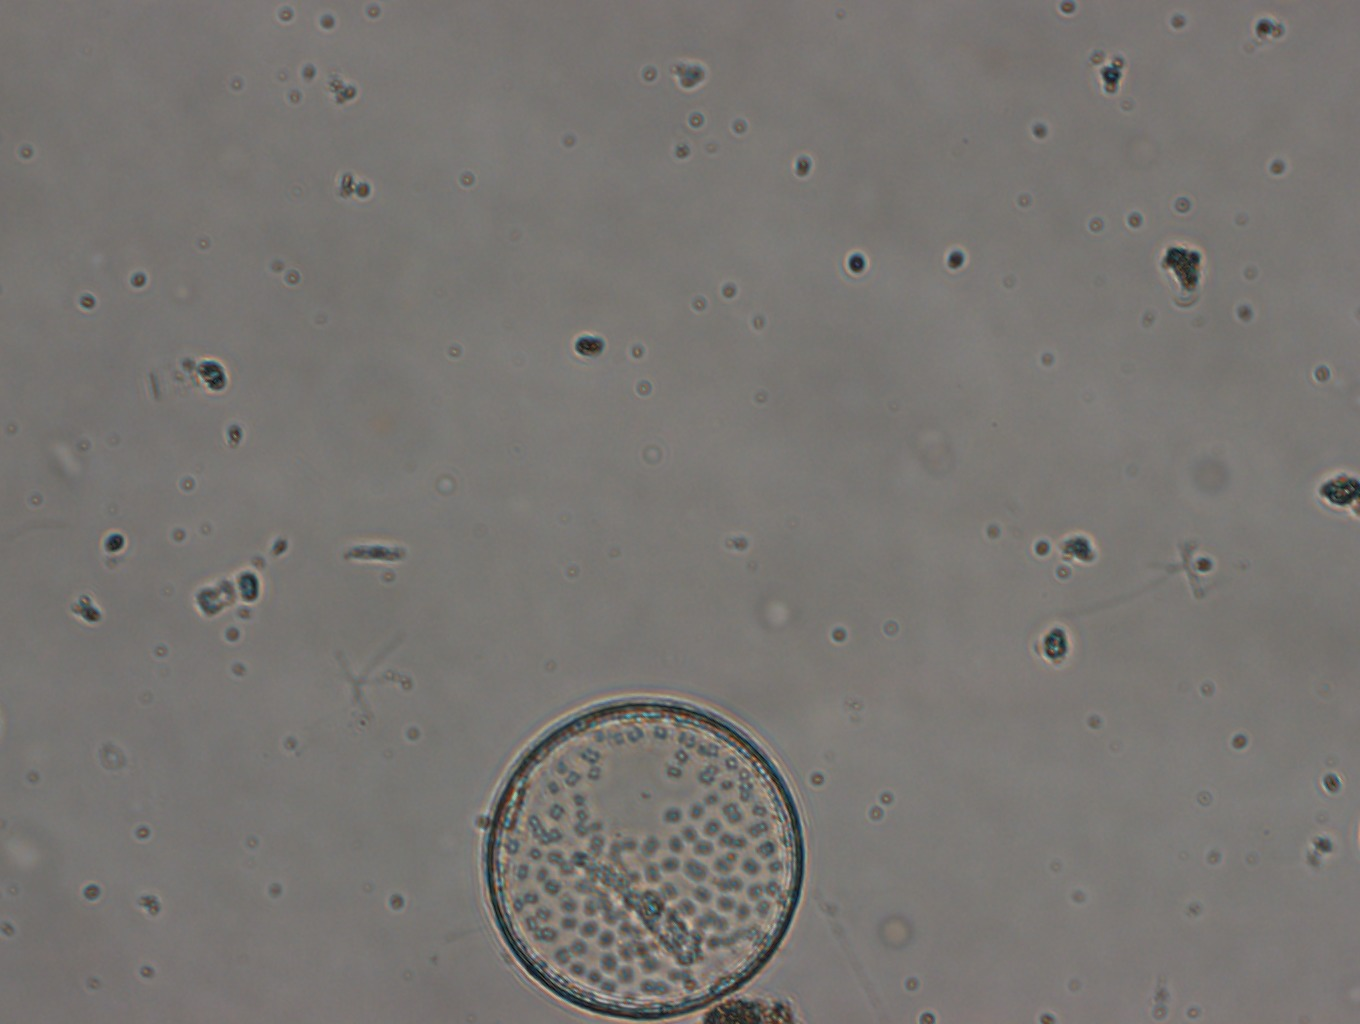coscinodiscus: (479, 693, 808, 1019)
